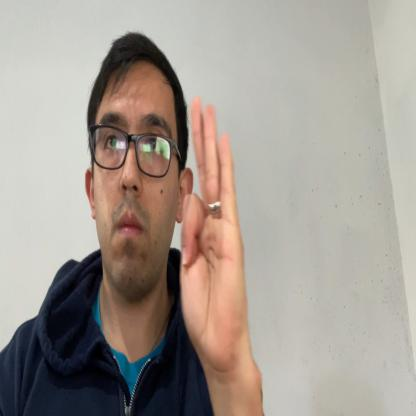F: (180, 98, 243, 362)
